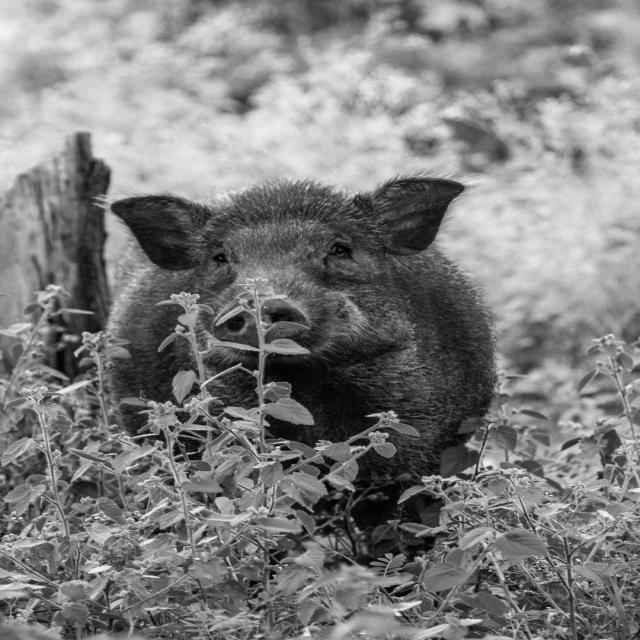boar: (93, 171, 496, 476)
